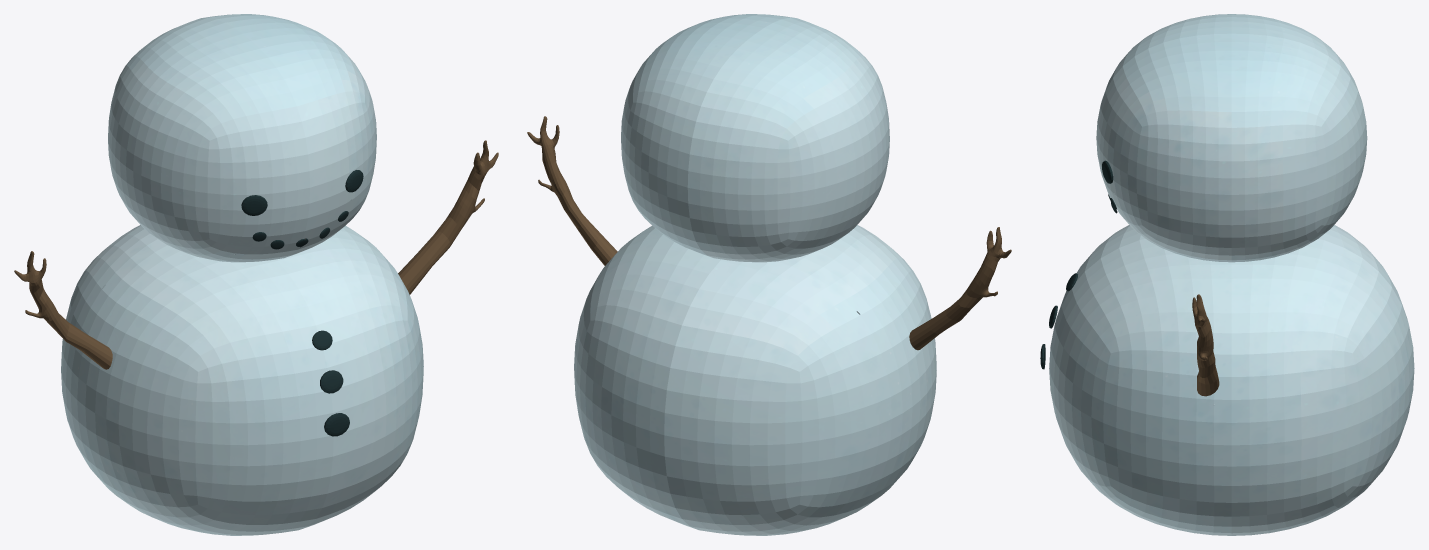
Rendered from frosty3.obj.
3 views of the same model, side by side, from view 1: azimuth 30°, elevation 25°; view 2: azimuth 150°, elevation 25°; view 3: azimuth 270°, elevation 25° (orthographic).
Visible parts, largest first — view 1: frosty_4; view 2: frosty_4; view 3: frosty_4.
Boxes of the visible parts, box(x1,y1,x2,y2) form: frosty_4: box(14, 14, 498, 535); frosty_4: box(527, 14, 1011, 535); frosty_4: box(1040, 14, 1414, 535).
Bounding box in the file's own units: 3 × 2.82 × 2.01.
Materials: 1 (1 with a texture image).
